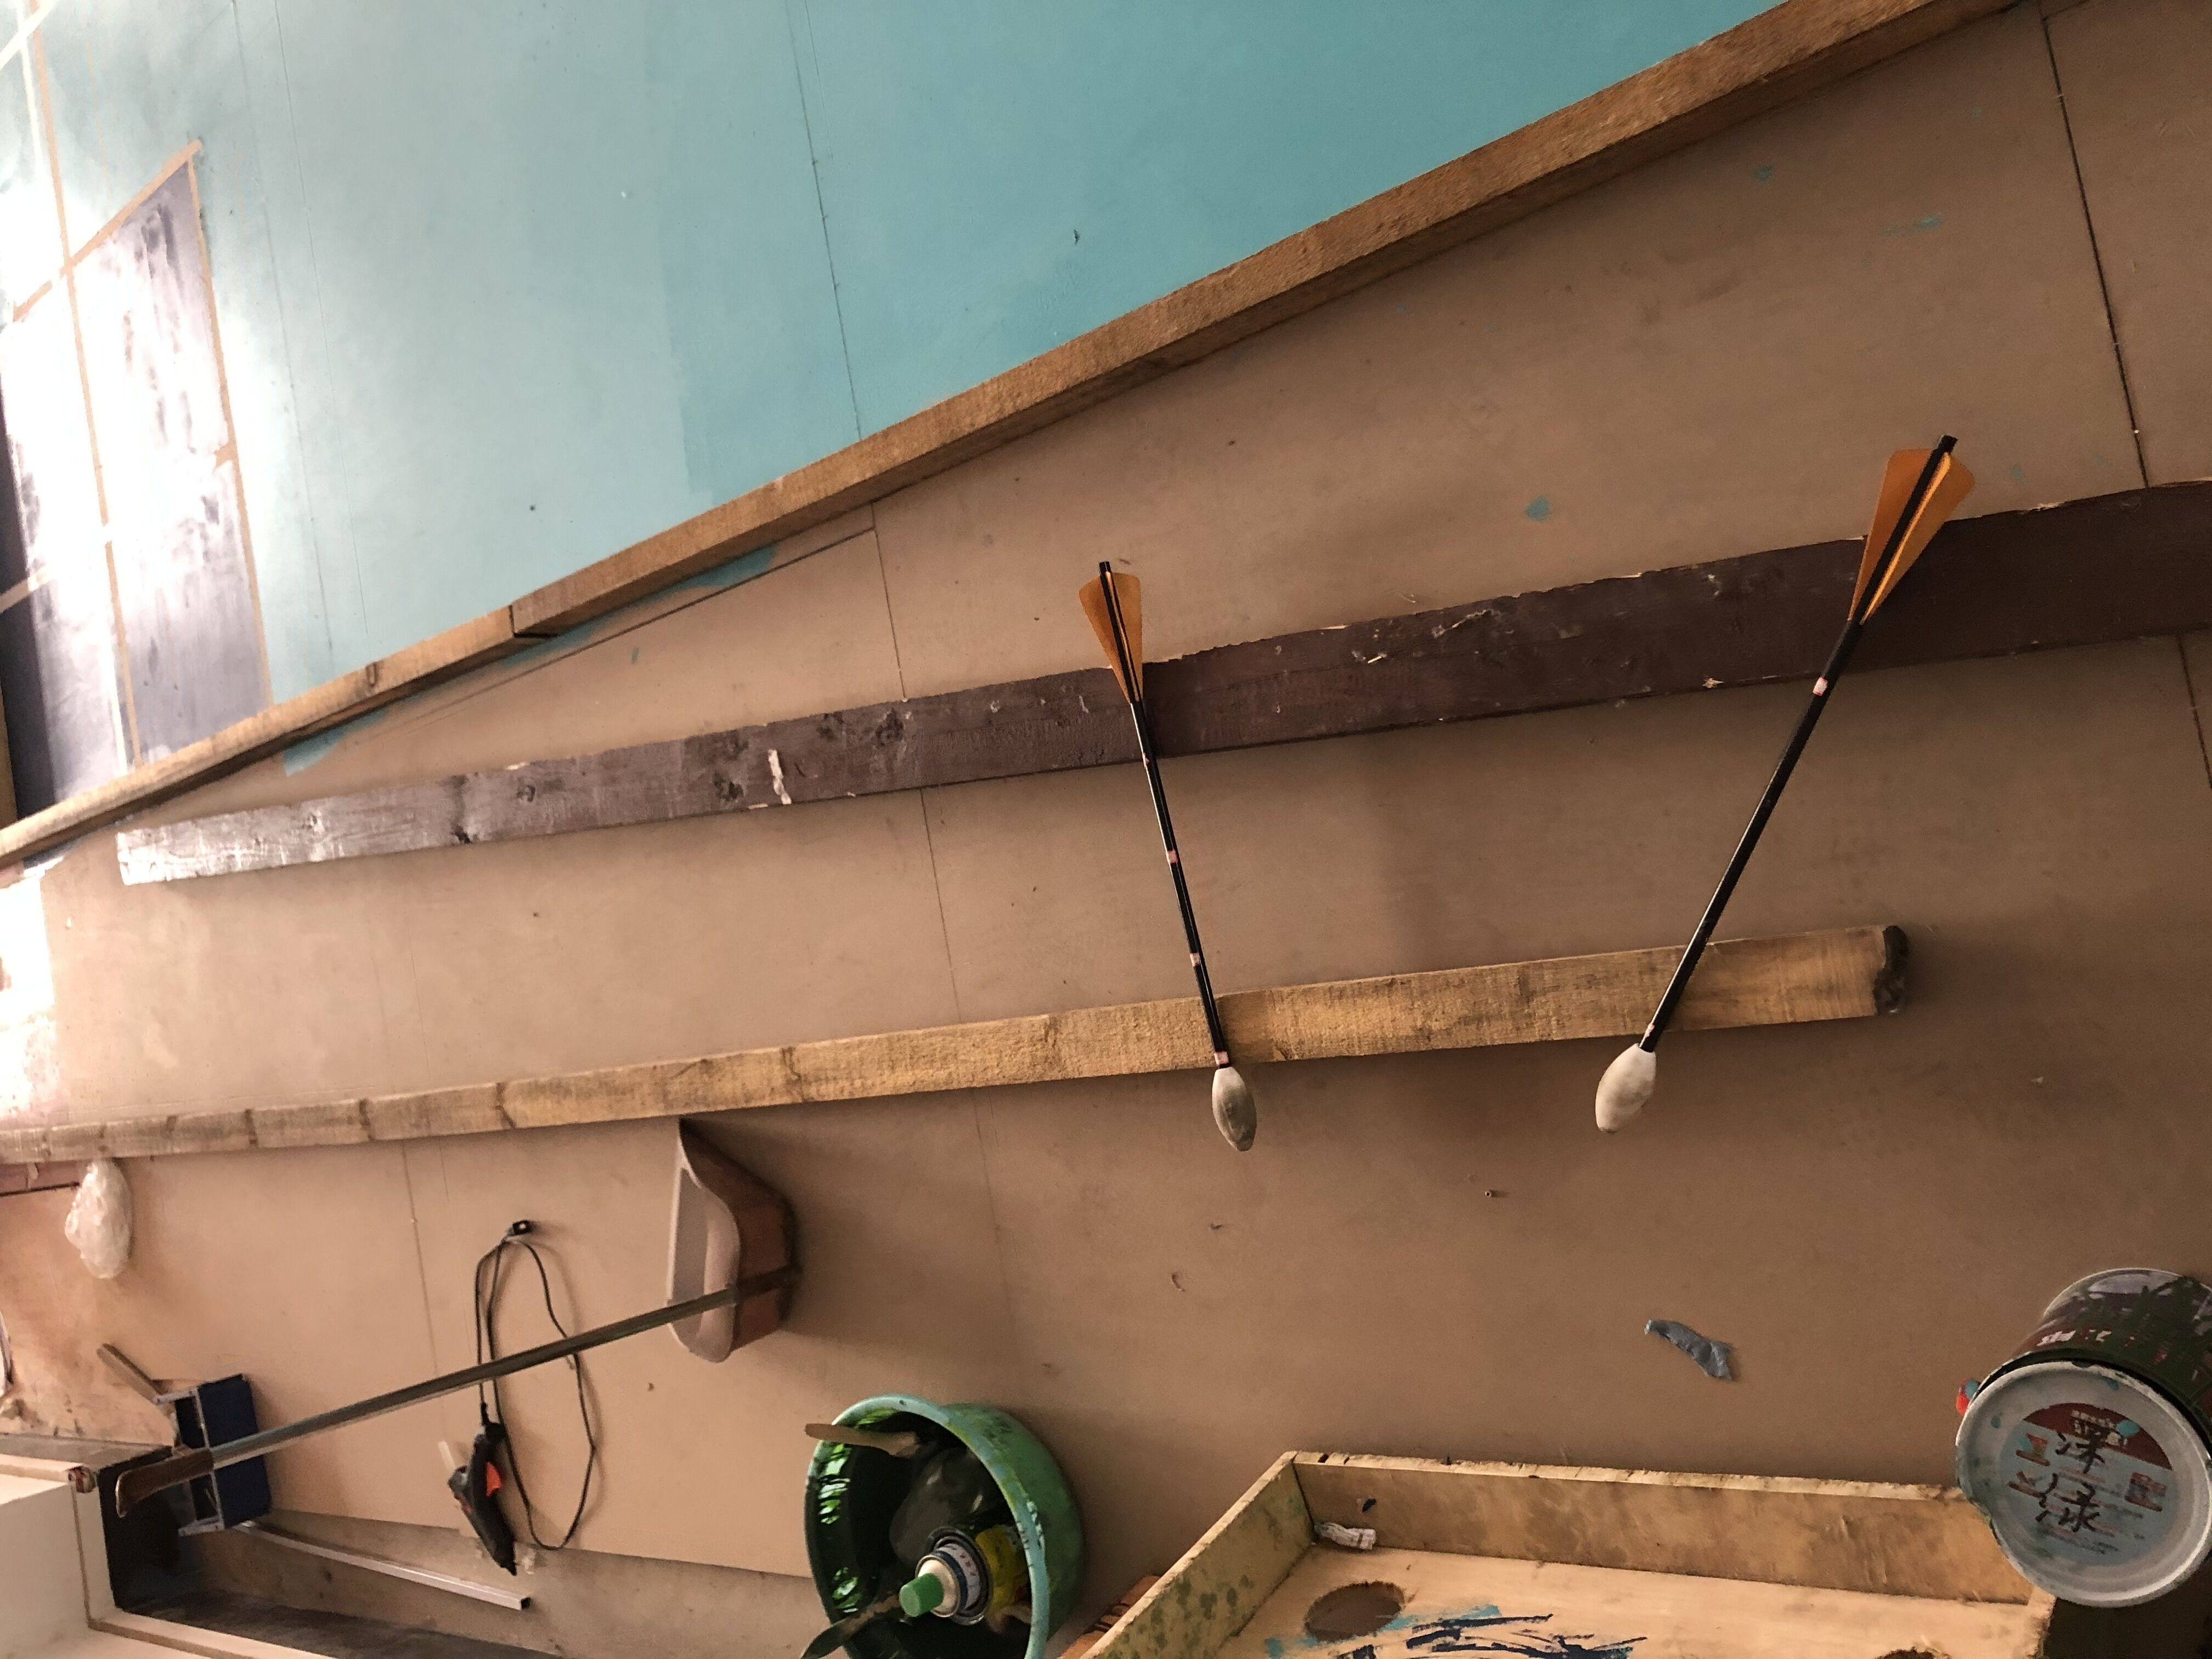arrow: (1592, 441, 1977, 1136), (1076, 558, 1259, 1155)
arrowFront: (1590, 1040, 1660, 1136), (1209, 1065, 1261, 1159)
